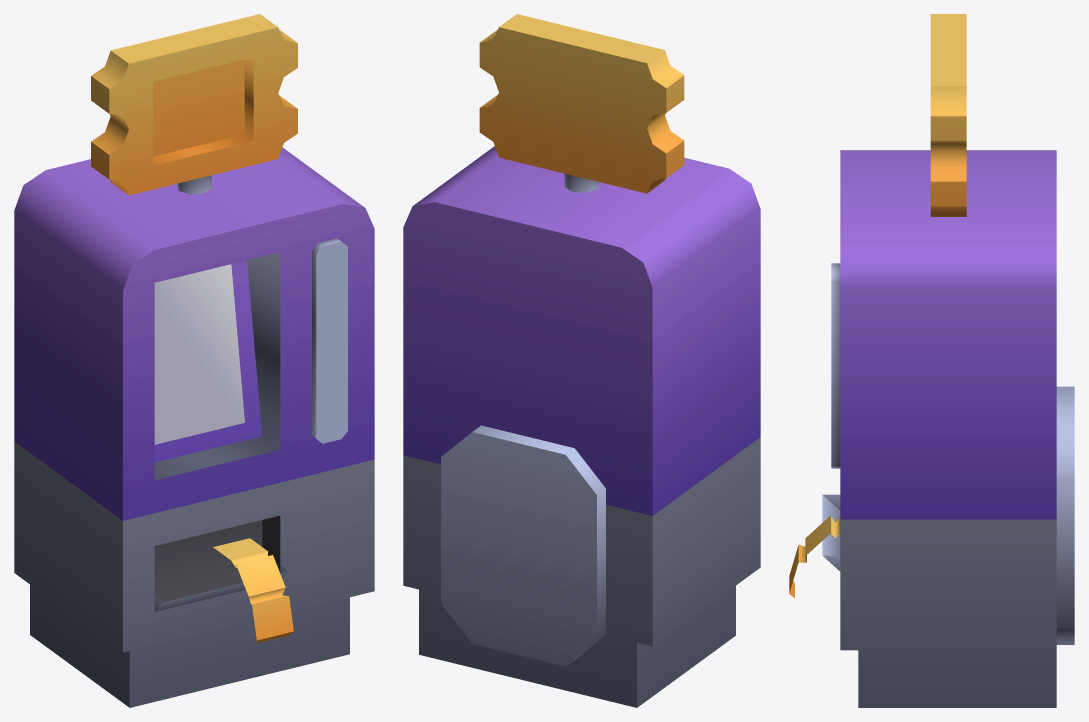
File: ticket-machine.glb
3 renders of one model, left to right at view 1: azimuth 30°, elevation 25°; view 2: azimuth 150°, elevation 25°; view 3: azimuth 270°, elevation 25°, orthographic.
Parts seen in each view (by area): view 1: ticket-machine, rotate-y; view 2: ticket-machine, rotate-y; view 3: ticket-machine, rotate-y.
Part boxes in pixels (x1=…): ticket-machine: x1=14, y1=147, x2=374, y2=707; rotate-y: x1=91, y1=14, x2=297, y2=195; ticket-machine: x1=403, y1=146, x2=760, y2=707; rotate-y: x1=479, y1=14, x2=684, y2=193; ticket-machine: x1=789, y1=150, x2=1074, y2=707; rotate-y: x1=930, y1=14, x2=966, y2=216.
Size of the model in its own units: 0.4 by 0.925 by 0.3958.
1 material, 1 textured.
